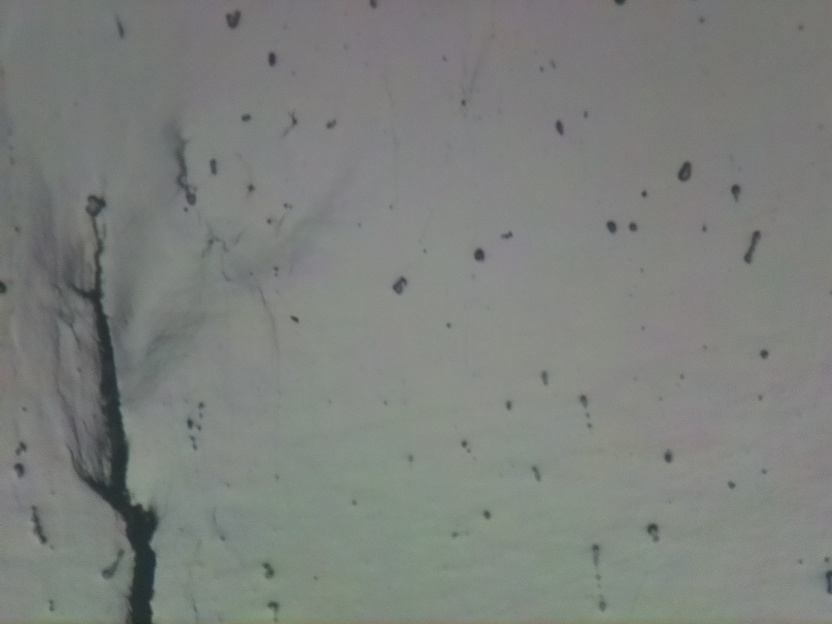crack: (63, 202, 160, 624)
